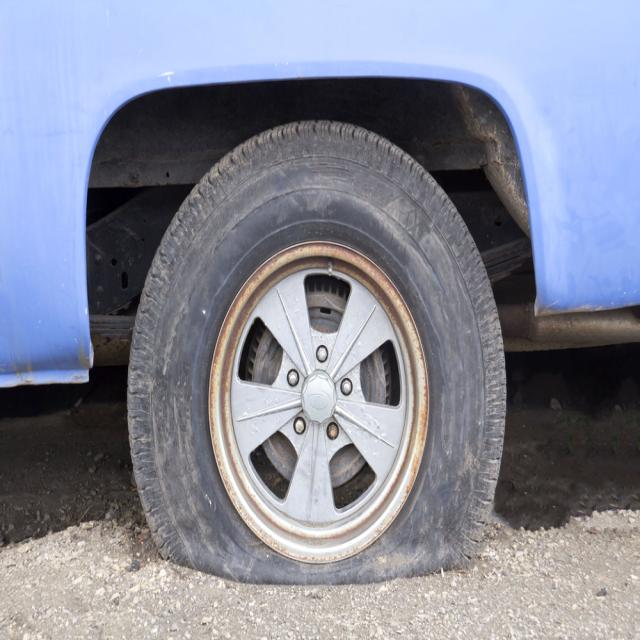tire flat: (126, 123, 503, 585)
